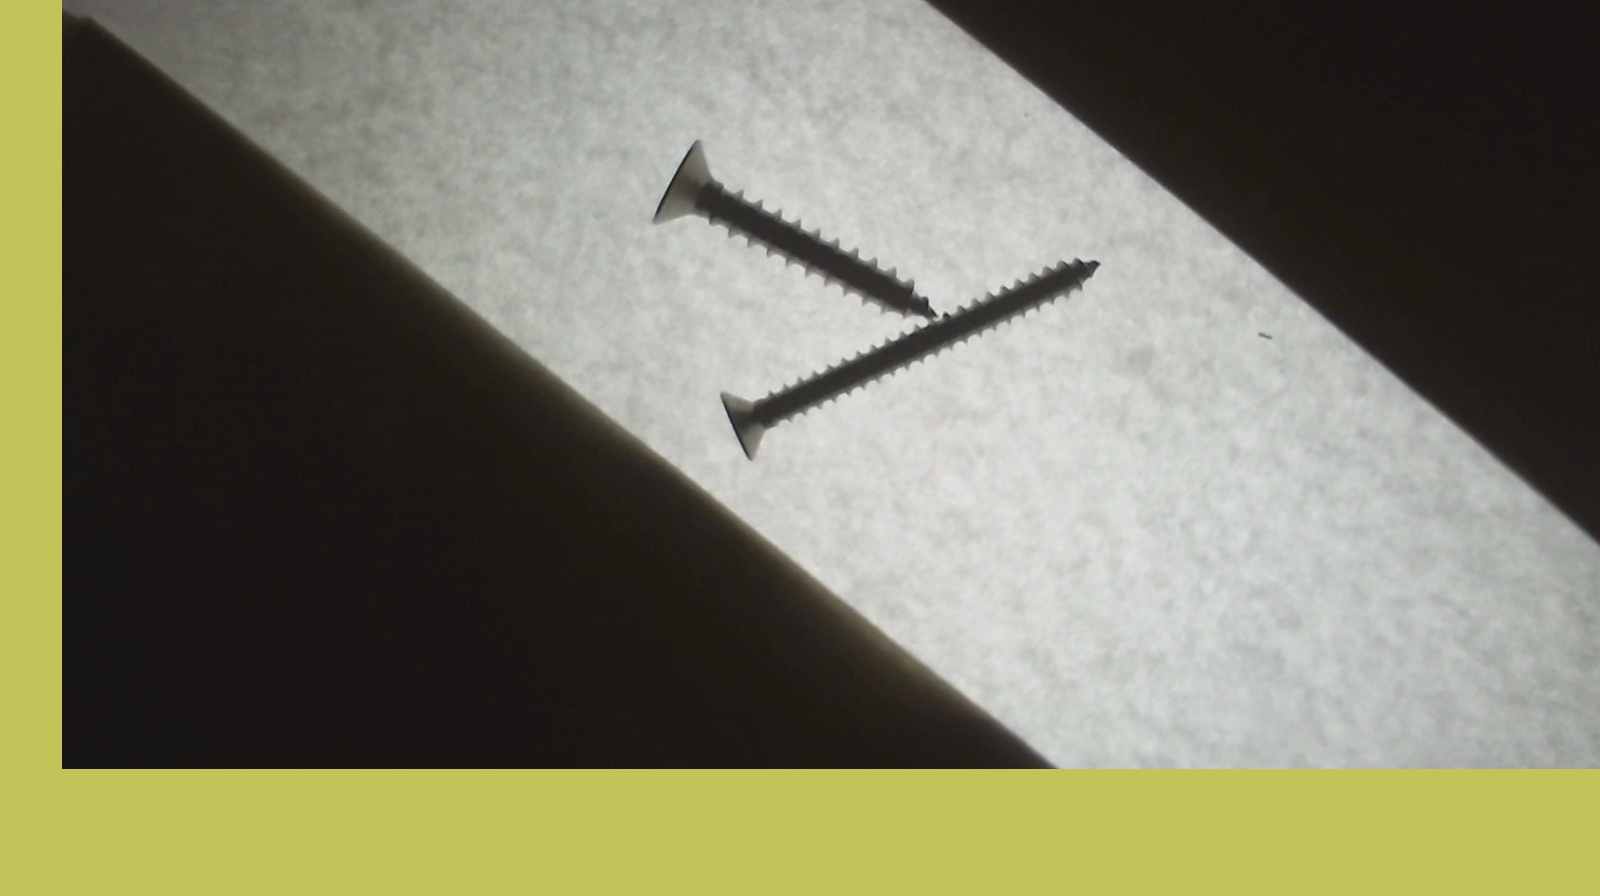S001: (646, 136, 942, 320)
S002: (716, 253, 1105, 469)
